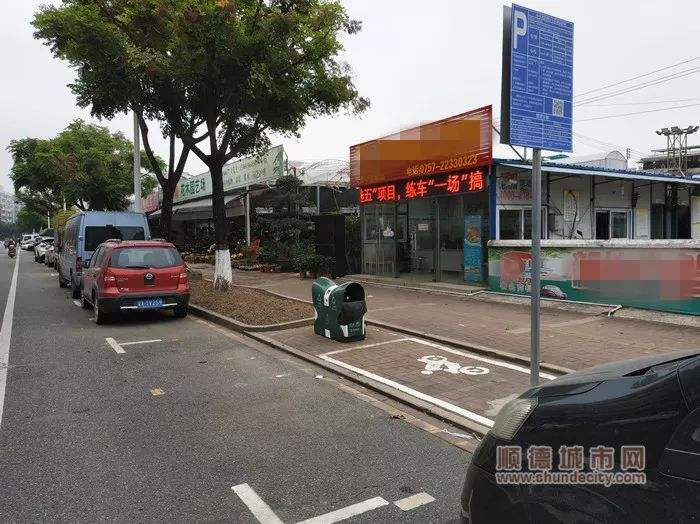slot_nocar: (88, 322, 497, 524)
